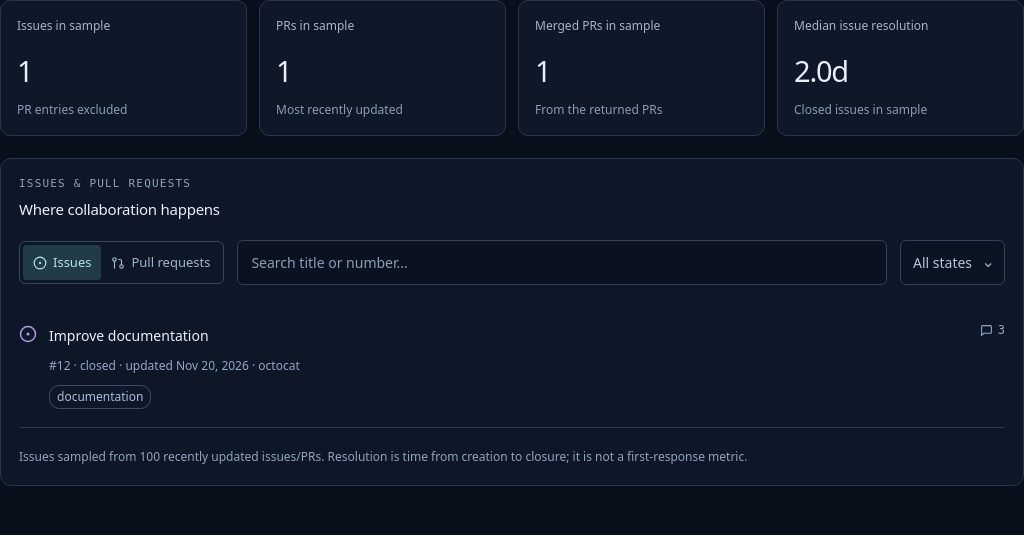
analytical UI › filters issues and preserves sample labels
The image size is (1024, 535).
Expected: the text "Improve documentation" is shown, left=49, top=326, right=209, bottom=345
Select "Open" in the dropdown named "Filter by status" at {"x": 952, "y": 262}, box left=900, top=240, right=1005, bottom=285
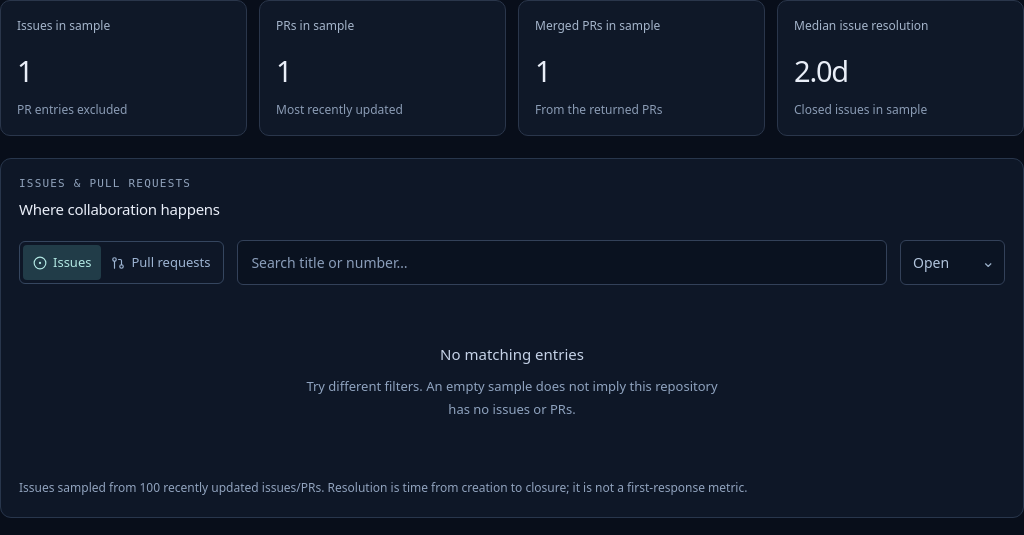
Expected: the text "Issues in sample" is shown, left=17, top=17, right=110, bottom=34
Expected: the heading "No matching entries" is shown, left=440, top=344, right=584, bottom=364
